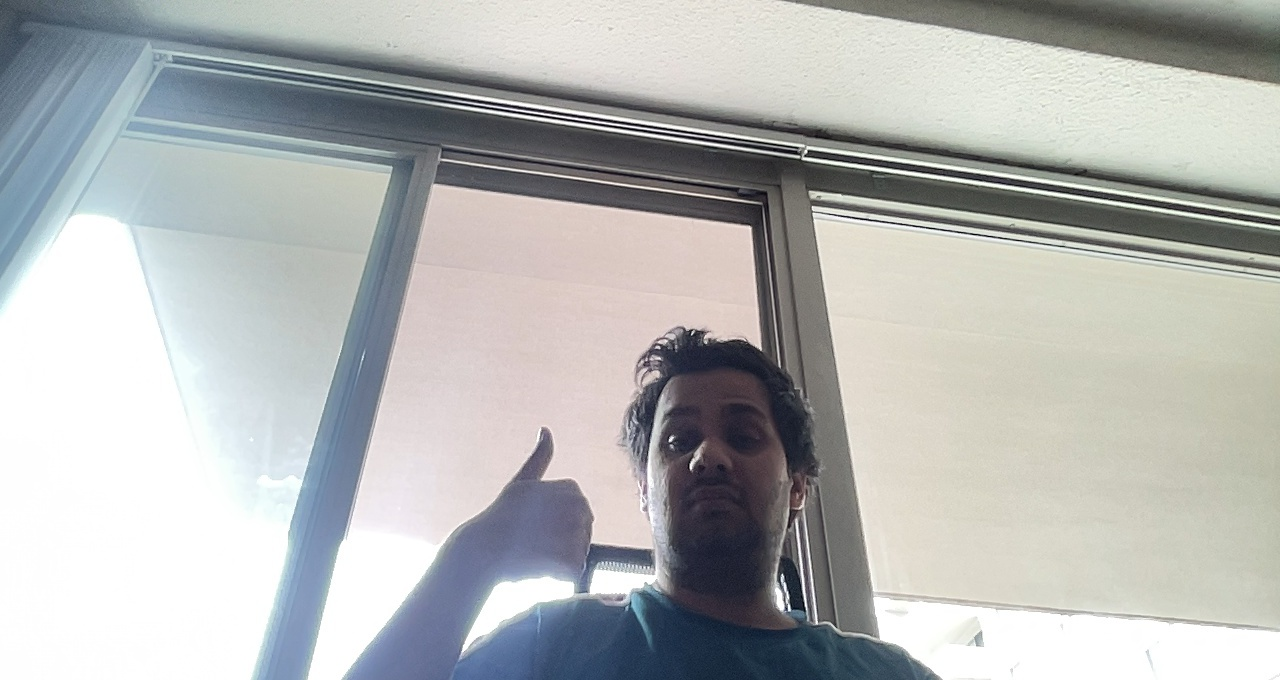thumbsup: (476, 422, 607, 590)
